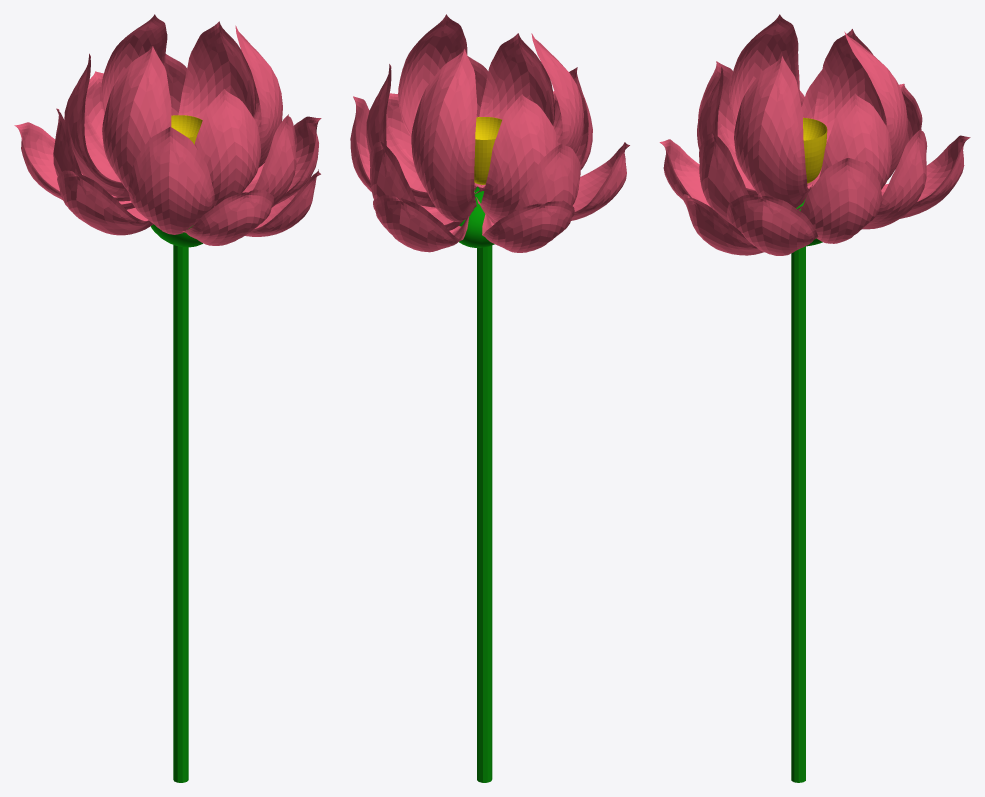
File: Lotus056.fbx
The picture shows the model from 3 angles, left to right: view 1: azimuth 30°, elevation 25°; view 2: azimuth 150°, elevation 25°; view 3: azimuth 270°, elevation 25°; orthographic projection.
Parts seen in each view (by area): view 1: pCylinder1, nurbsToPoly16, nurbsToPoly21, nurbsToPoly18, nurbsToPoly19, nurbsToPoly11, nurbsToPoly20, nurbsToPoly8, nurbsToPoly22, nurbsToPoly23, nurbsToPoly13, nurbsToPoly12 (+6 smaller); view 2: pCylinder1, nurbsToPoly23, nurbsToPoly20, nurbsToPoly18, nurbsToPoly22, nurbsToPoly10, nurbsToPoly12, nurbsToPoly14, nurbsToPoly21, nurbsToPoly19, nurbsToPoly11, nurbsToPoly17 (+6 smaller); view 3: nurbsToPoly22, pCylinder1, nurbsToPoly15, nurbsToPoly9, nurbsToPoly19, nurbsToPoly20, nurbsToPoly21, nurbsToPoly17, nurbsToPoly13, nurbsToPoly23, nurbsToPoly10, nurbsToPoly24 (+5 smaller).
Part boxes in pixels (x1,y1,x2,y2): pCylinder1: [173, 245, 188, 782]; nurbsToPoly16: [128, 126, 214, 234]; nurbsToPoly21: [102, 46, 171, 191]; nurbsToPoly18: [194, 89, 260, 207]; nurbsToPoly19: [178, 21, 255, 119]; nurbsToPoly11: [57, 170, 153, 235]; nurbsToPoly20: [64, 53, 129, 196]; nurbsToPoly8: [182, 189, 273, 245]; nurbsToPoly22: [235, 25, 282, 167]; nurbsToPoly23: [101, 14, 167, 113]; nurbsToPoly13: [242, 114, 296, 206]; nurbsToPoly12: [14, 122, 130, 201]; pCylinder1: [477, 245, 492, 782]; nurbsToPoly23: [411, 49, 477, 221]; nurbsToPoly20: [476, 94, 558, 222]; nurbsToPoly18: [474, 33, 554, 194]; nurbsToPoly22: [398, 14, 477, 190]; nurbsToPoly10: [373, 195, 469, 252]; nurbsToPoly12: [482, 201, 574, 252]; nurbsToPoly14: [490, 144, 580, 223]; nurbsToPoly21: [477, 33, 583, 190]; nurbsToPoly19: [366, 64, 475, 207]; nurbsToPoly11: [571, 142, 629, 220]; nurbsToPoly17: [369, 141, 473, 230]; nurbsToPoly22: [734, 56, 813, 208]; pCylinder1: [791, 246, 805, 782]; nurbsToPoly15: [800, 158, 882, 243]; nurbsToPoly9: [726, 194, 818, 255]; nurbsToPoly19: [819, 93, 891, 189]; nurbsToPoly20: [807, 29, 885, 185]; nurbsToPoly21: [729, 14, 807, 185]; nurbsToPoly17: [862, 129, 927, 229]; nurbsToPoly13: [699, 132, 802, 222]; nurbsToPoly23: [844, 31, 907, 179]; nurbsToPoly10: [881, 135, 970, 218]; nurbsToPoly24: [683, 194, 763, 255].
Bounding box in the file's own units: 18.59 × 53.46 × 20.2.
